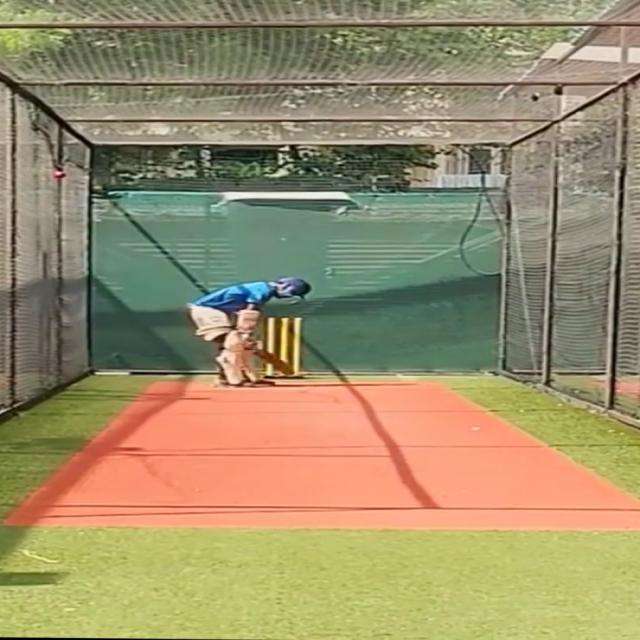stump: (263, 315, 307, 379)
